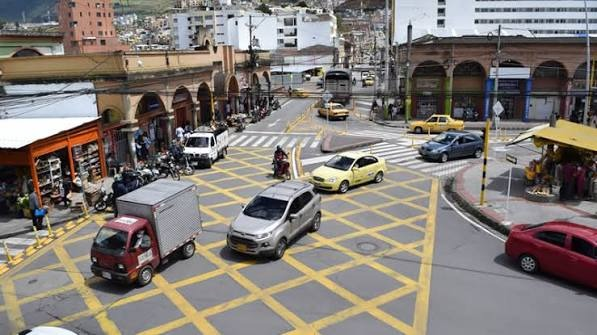car: (87, 175, 203, 289), (219, 178, 321, 262), (505, 215, 597, 295), (302, 152, 385, 193), (414, 131, 483, 162), (178, 132, 222, 168), (318, 98, 351, 121)
